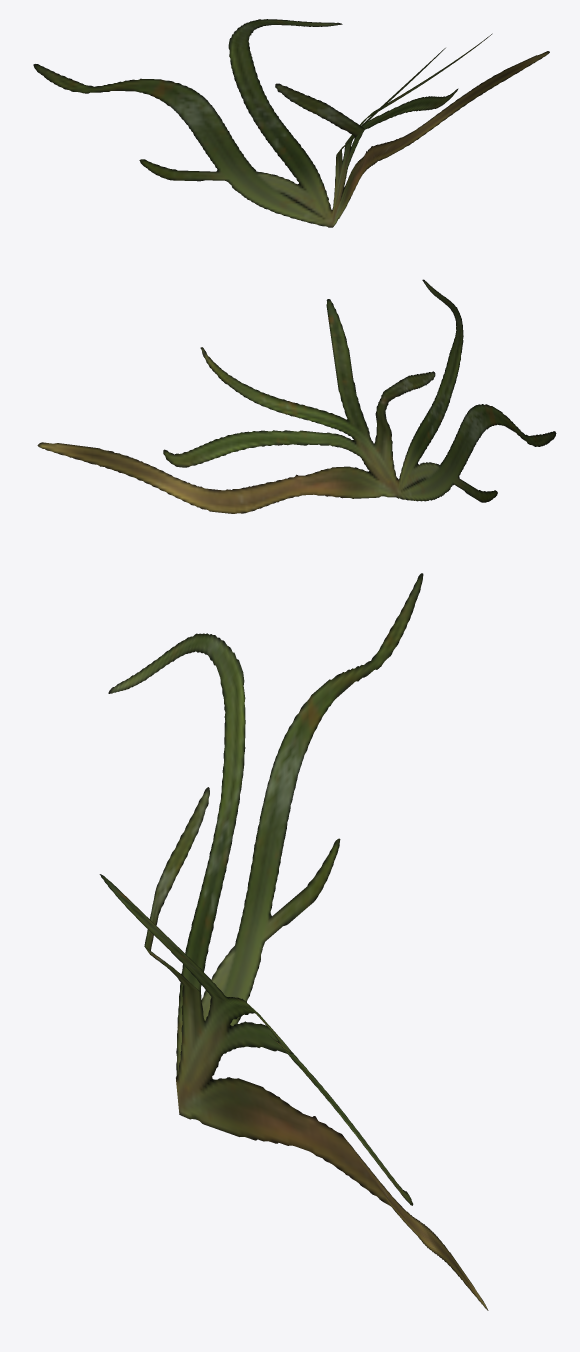
The model's file is Bermuda_Small_A.fbx.
3 renders of one model, top to bottom at view 1: azimuth 30°, elevation 25°; view 2: azimuth 150°, elevation 25°; view 3: azimuth 270°, elevation 25°, orthographic. The views are drawn at different scales.
Visible parts, largest first — view 1: Bermuda_Small_A; view 2: Bermuda_Small_A; view 3: Bermuda_Small_A.
Boxes of the visible parts, x1=… form: Bermuda_Small_A: x1=33, y1=19, x2=549, y2=227; Bermuda_Small_A: x1=37, y1=279, x2=556, y2=513; Bermuda_Small_A: x1=99, y1=573, x2=488, y2=1310.
Bounding box in the file's own units: 0.2973 × 0.12 × 0.1033.
1 material, 1 textured.
